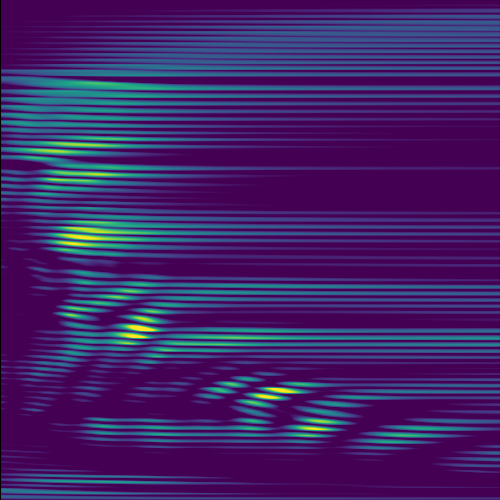semblance: (54, 219, 140, 253), (29, 132, 117, 158), (117, 304, 166, 348), (47, 166, 118, 189), (252, 380, 299, 403), (294, 413, 338, 436), (223, 377, 241, 391)
